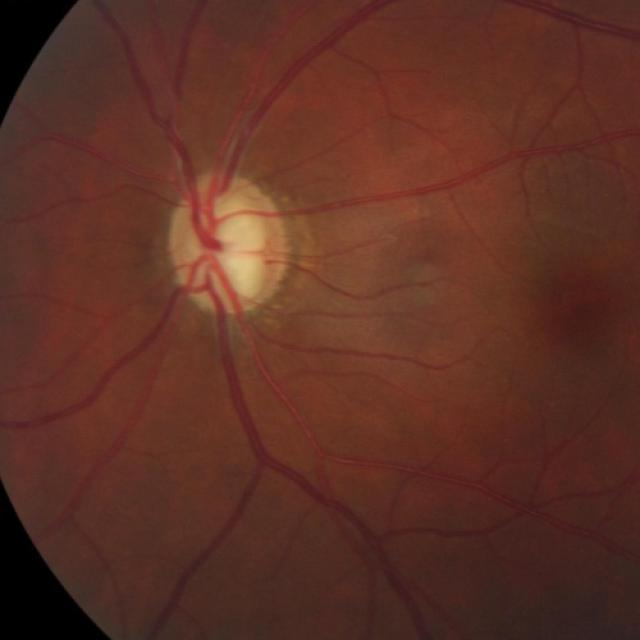OC: (175, 199, 268, 296)
OD: (167, 170, 290, 312)
